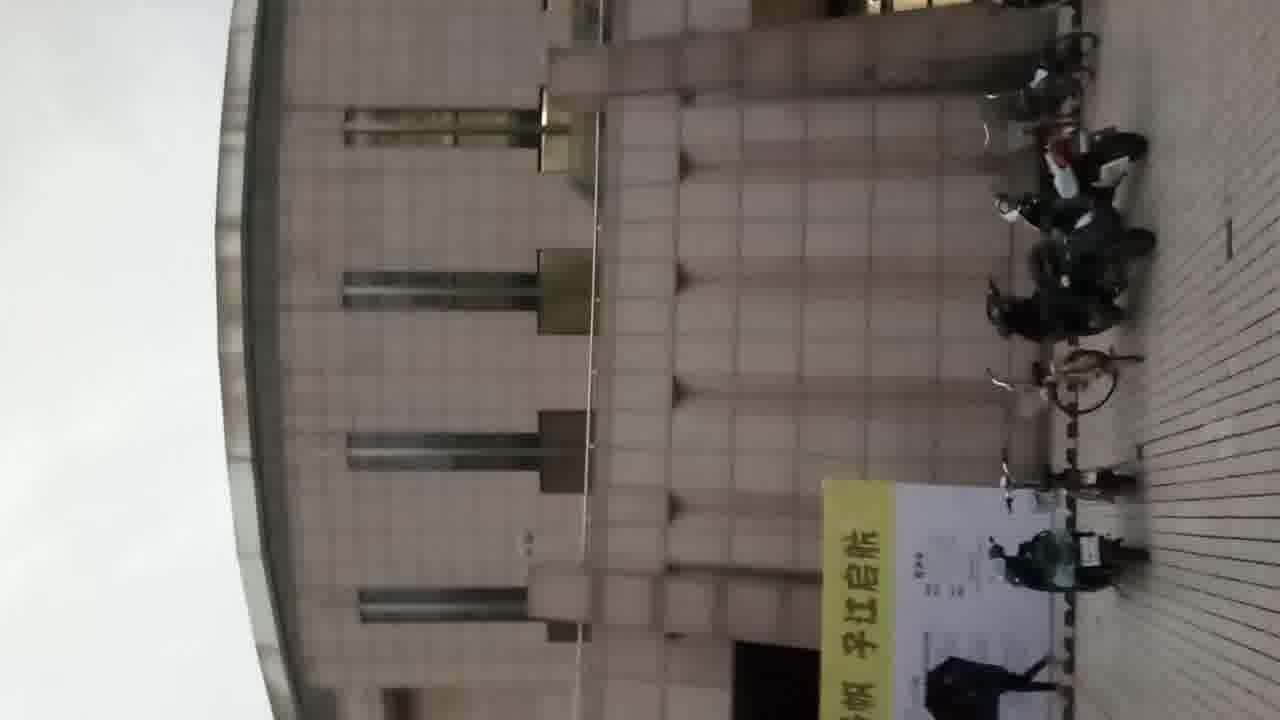zhongtiww: (210, 2, 1046, 720)
